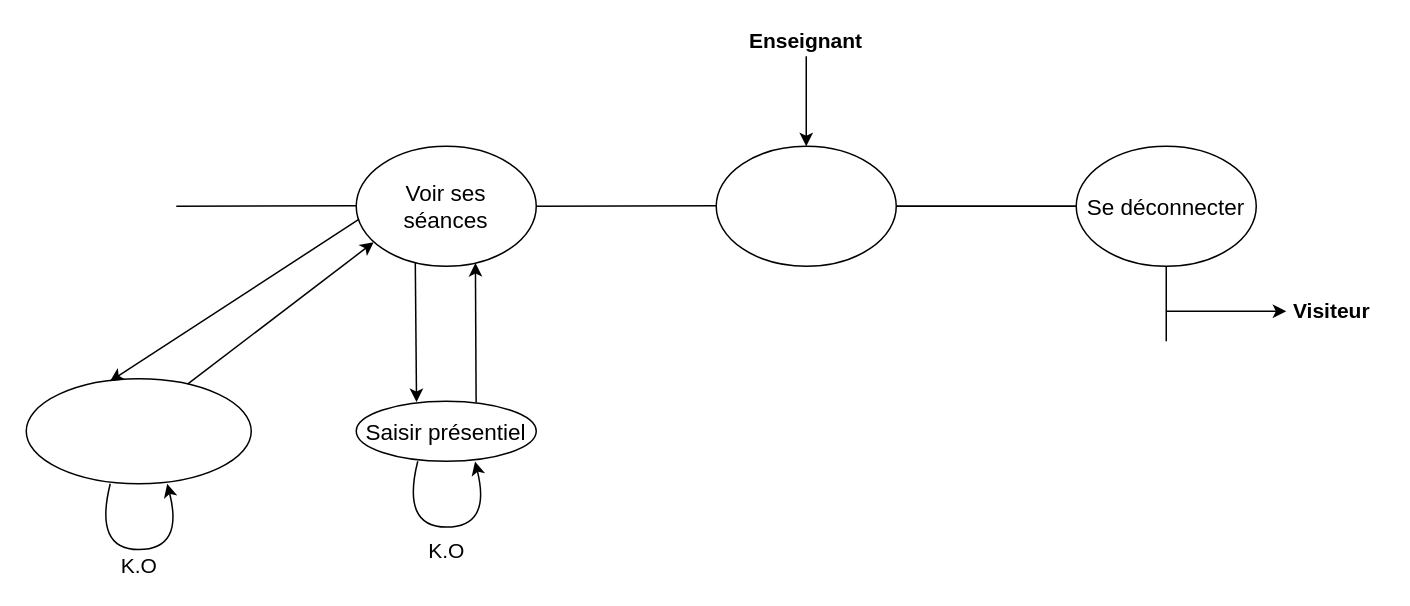
Image size: 1410x606. Some labels were removed from this diagram. The shapes that lost their labels are listed below. From the top down, each one's centre as x and y in pixels, then its label:
At [805,205]: "Voir ses informations".
At [138,430]: "Consulter/modifier présentiel".
